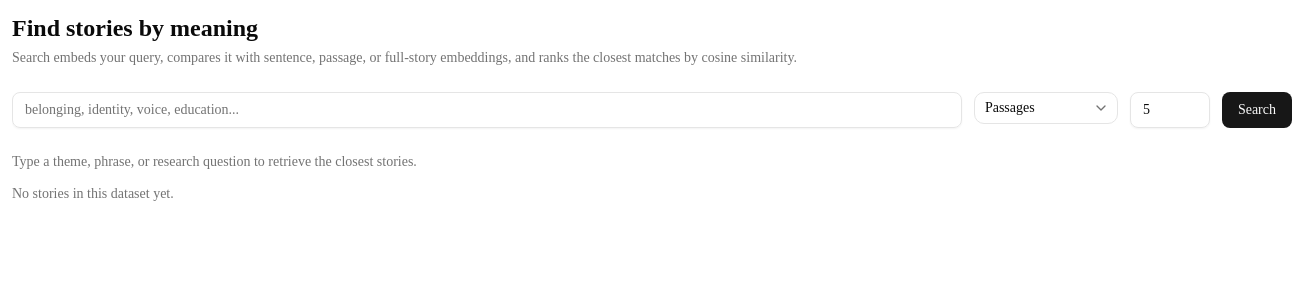
Test case: SearchPage › renders search results after submitting a query
Type "feeling invisible at school" into the field with placeholder "belonging, identity, voice, education..." at (487, 110), box [12,92,962,128]
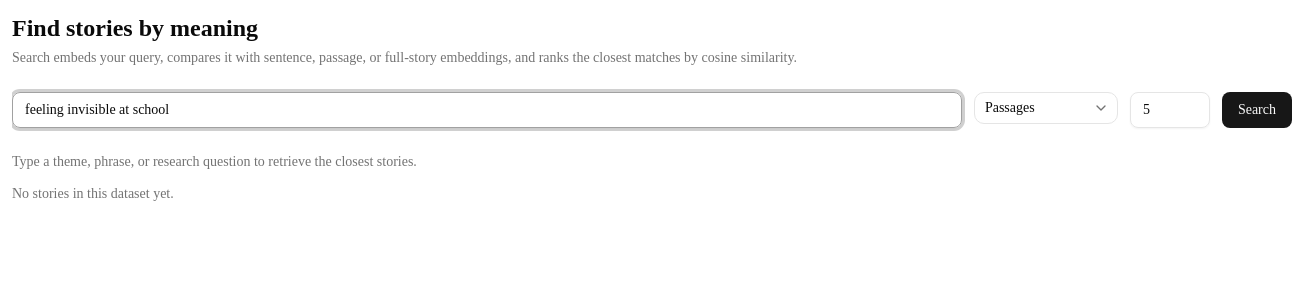
Click the button "Search" at (1257, 110), box [1222,92,1292,128]
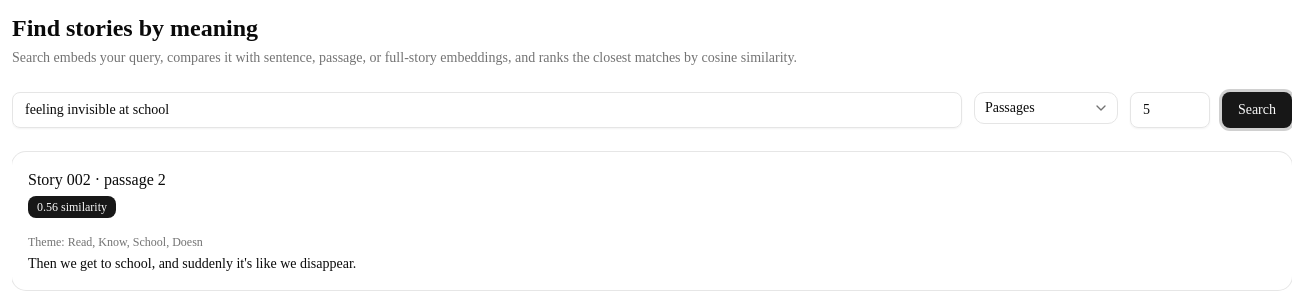
Expected: the text "0.56 similarity" is shown, [28,196,116,218]
